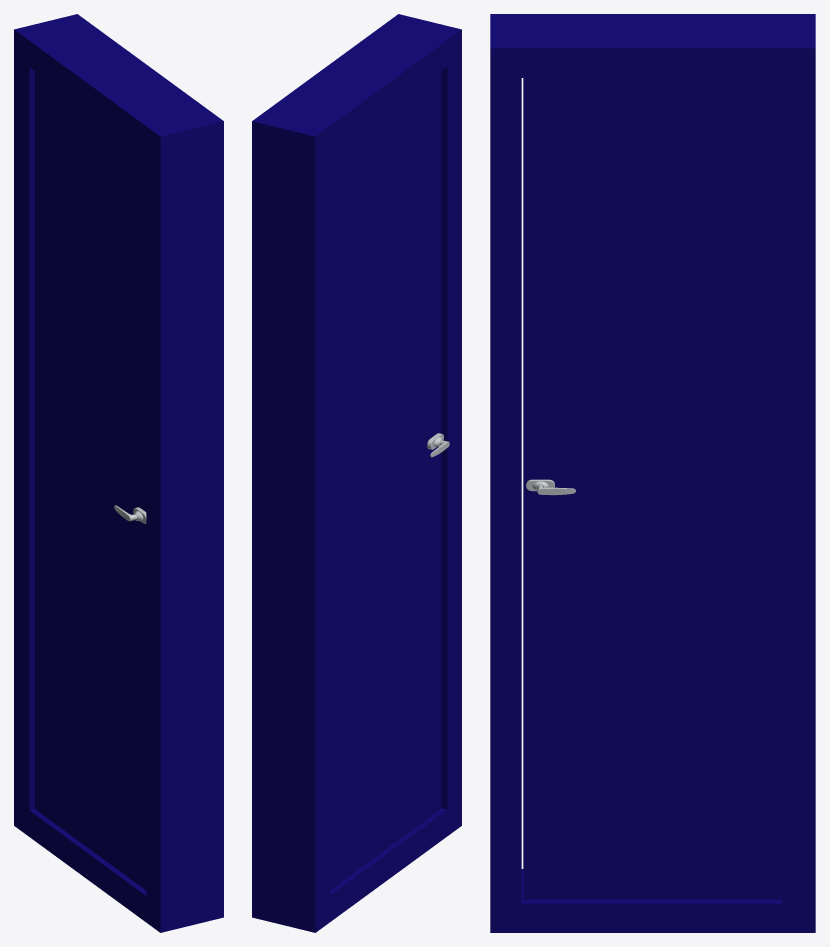
File: classroom_door_v3.fbx
The picture shows the model from 3 angles, left to right: view 1: azimuth 30°, elevation 25°; view 2: azimuth 150°, elevation 25°; view 3: azimuth 270°, elevation 25°; orthographic projection. The views are drawn at different scales.
Parts seen in each view (by area): view 1: Window Frame.001, Window.001; view 2: Window Frame.001, Window.001; view 3: Window.001, Window Frame.001.
Part boxes in pixels (bbox=[...]): Window Frame.001: bbox=[14, 14, 223, 932]; Window.001: bbox=[35, 71, 146, 889]; Window Frame.001: bbox=[252, 14, 461, 932]; Window.001: bbox=[330, 71, 441, 889]; Window.001: bbox=[523, 78, 781, 899]; Window Frame.001: bbox=[490, 14, 815, 932].
Size of the model in its own units: 61.9 by 600 by 200.
